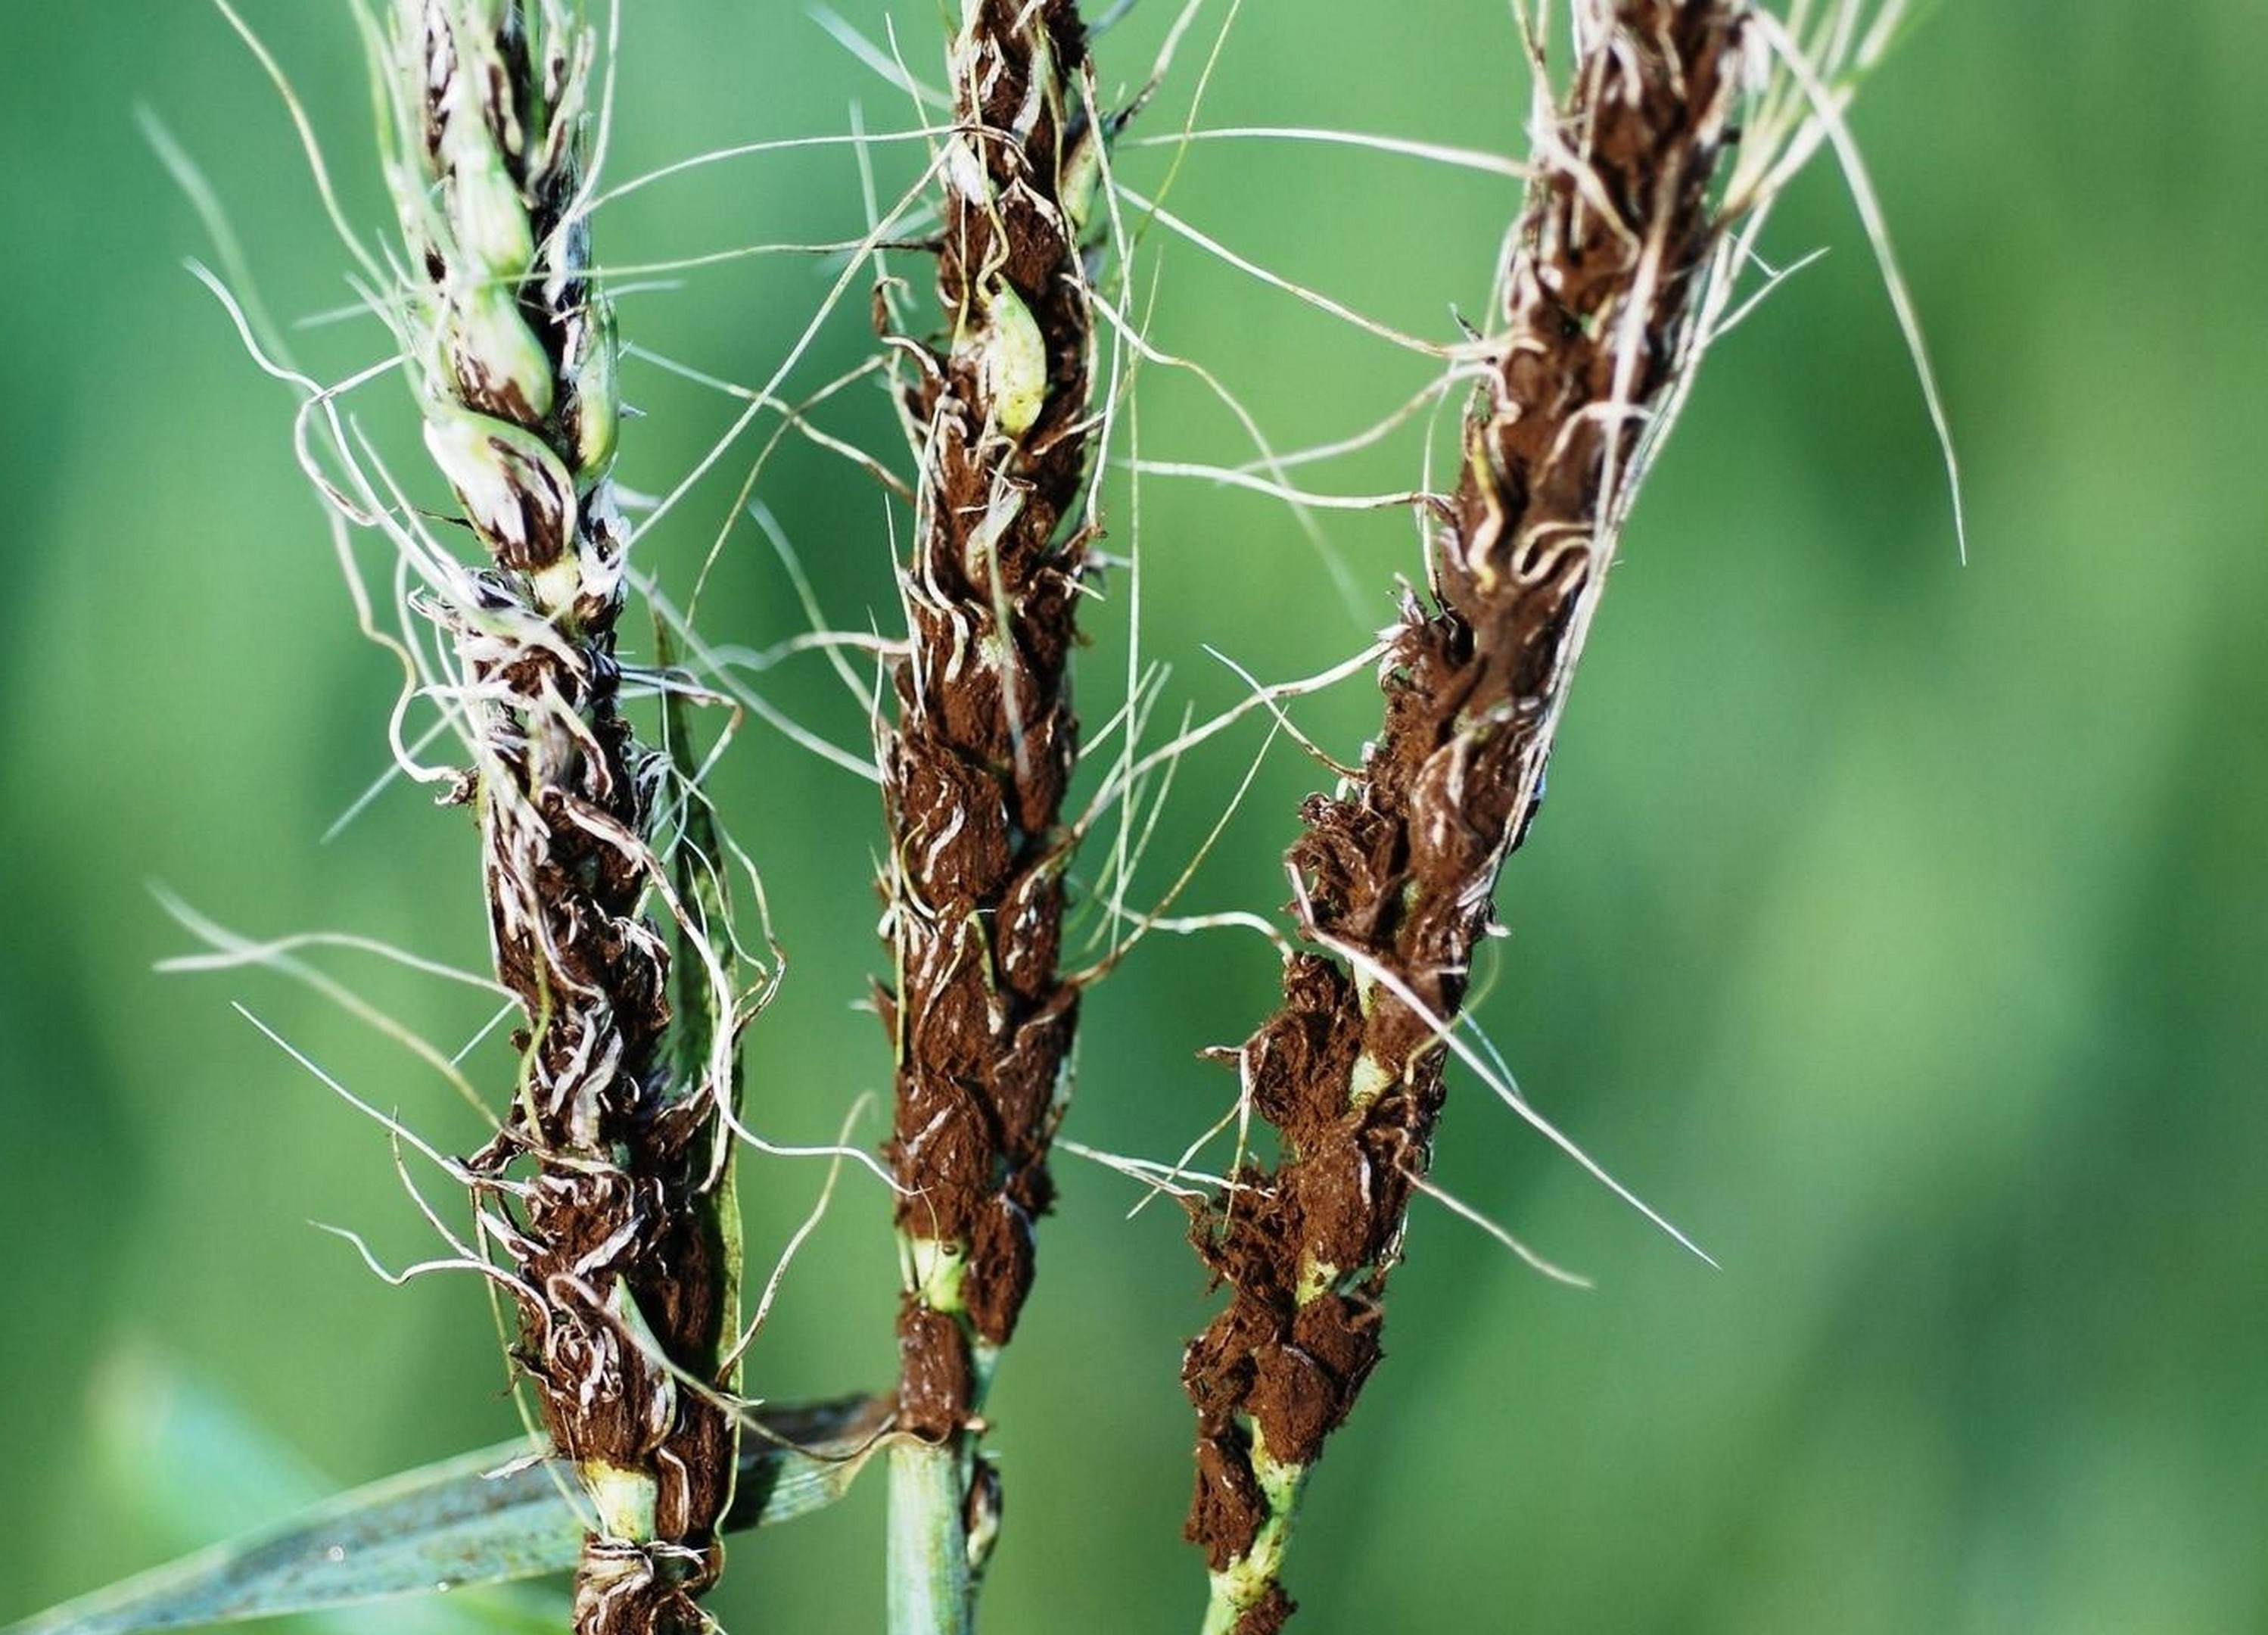Wheat Loose Smut: (1190, 2, 1875, 1485), (354, 106, 769, 1494), (824, 26, 1123, 1404)
